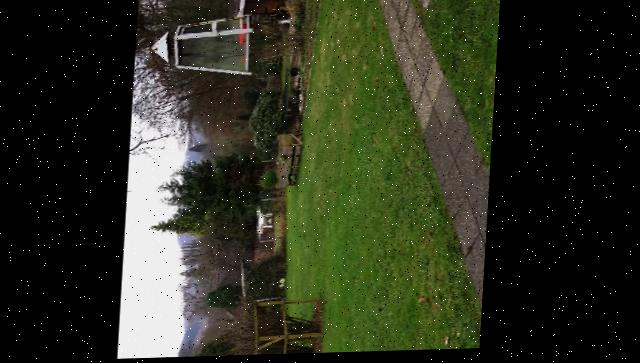drone: (255, 207, 278, 243)
